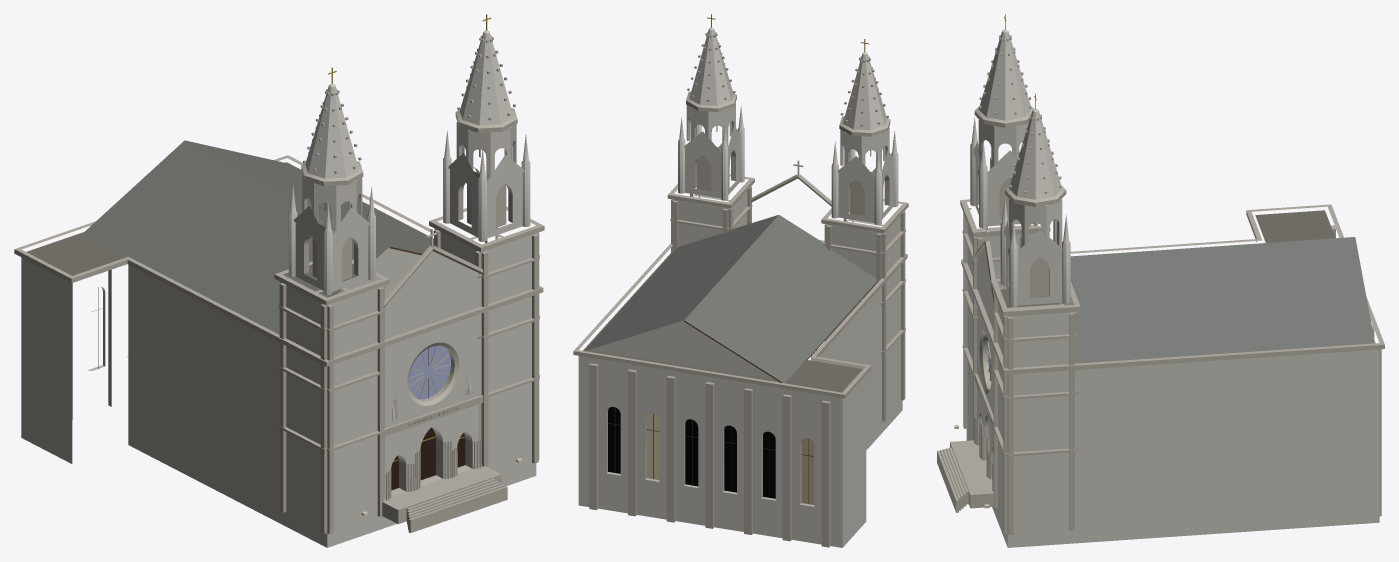
Rendered from ssPeterPaul_lod0.glb.
3 renders of one model, left to right at view 1: azimuth 30°, elevation 25°; view 2: azimuth 150°, elevation 25°; view 3: azimuth 270°, elevation 25°, orthographic. The views are drawn at different scales.
Visible parts, largest first — view 1: L0_stucco, L0_metal, L0_roof, L0_win, L0_wood; view 2: L0_stucco, L0_metal, L0_win, L0_roof; view 3: L0_stucco, L0_metal, L0_roof.
Boxes of the visible parts, left/top/right/bottom form: L0_stucco: left=14, top=30, right=544, bottom=547; L0_metal: left=84, top=140, right=433, bottom=368; L0_roof: left=26, top=162, right=433, bottom=334; L0_win: left=409, top=345, right=450, bottom=399; L0_wood: left=389, top=246, right=465, bottom=490; L0_stucco: left=573, top=27, right=908, bottom=547; L0_metal: left=584, top=215, right=876, bottom=503; L0_win: left=608, top=407, right=814, bottom=504; L0_roof: left=583, top=248, right=877, bottom=392; L0_stucco: left=937, top=29, right=1384, bottom=547; L0_metal: left=1058, top=237, right=1374, bottom=363; L0_roof: left=1000, top=210, right=1375, bottom=345.
Bounding box in the file's own units: 50.3 × 61.7 × 57.15.
